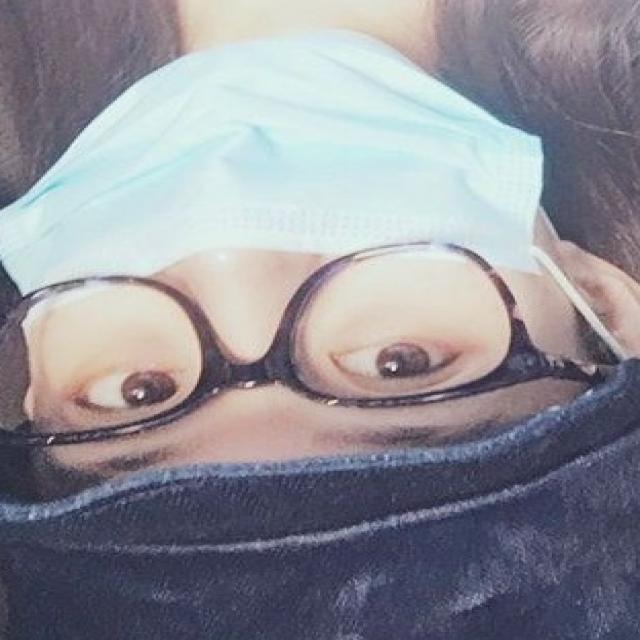mask: (21, 31, 585, 325)
